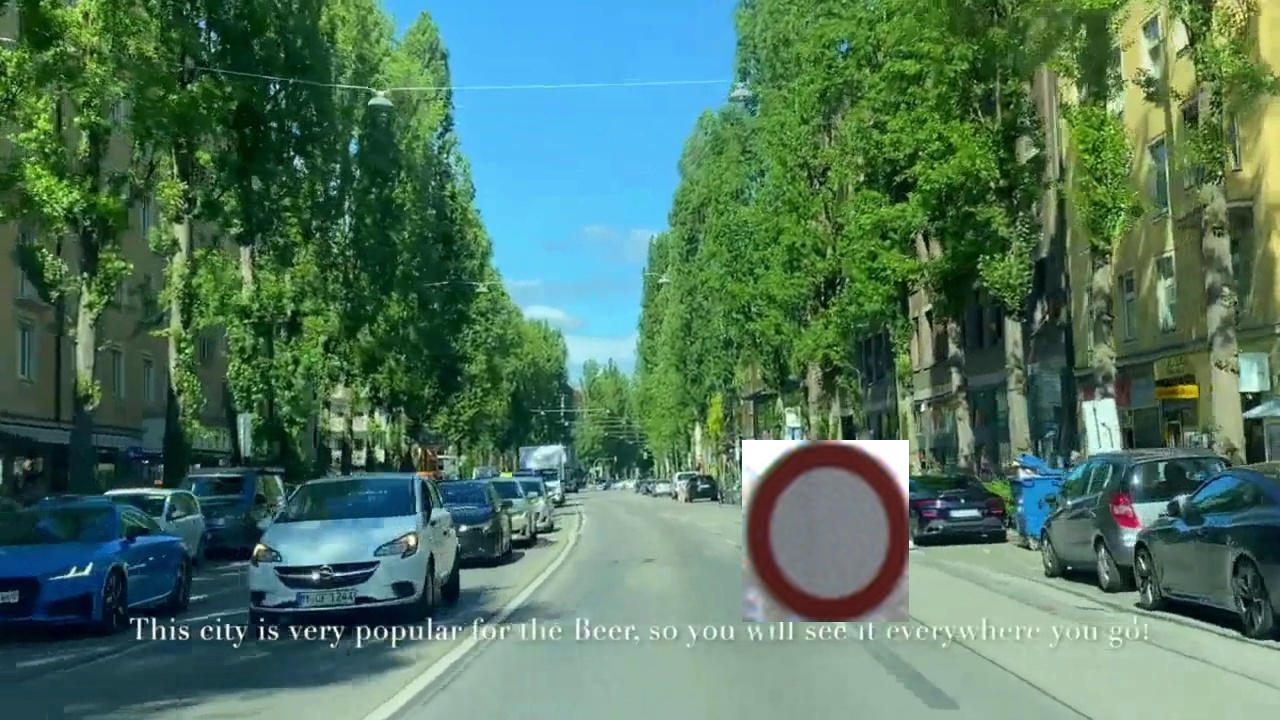No vehicles: (742, 440, 909, 622)
